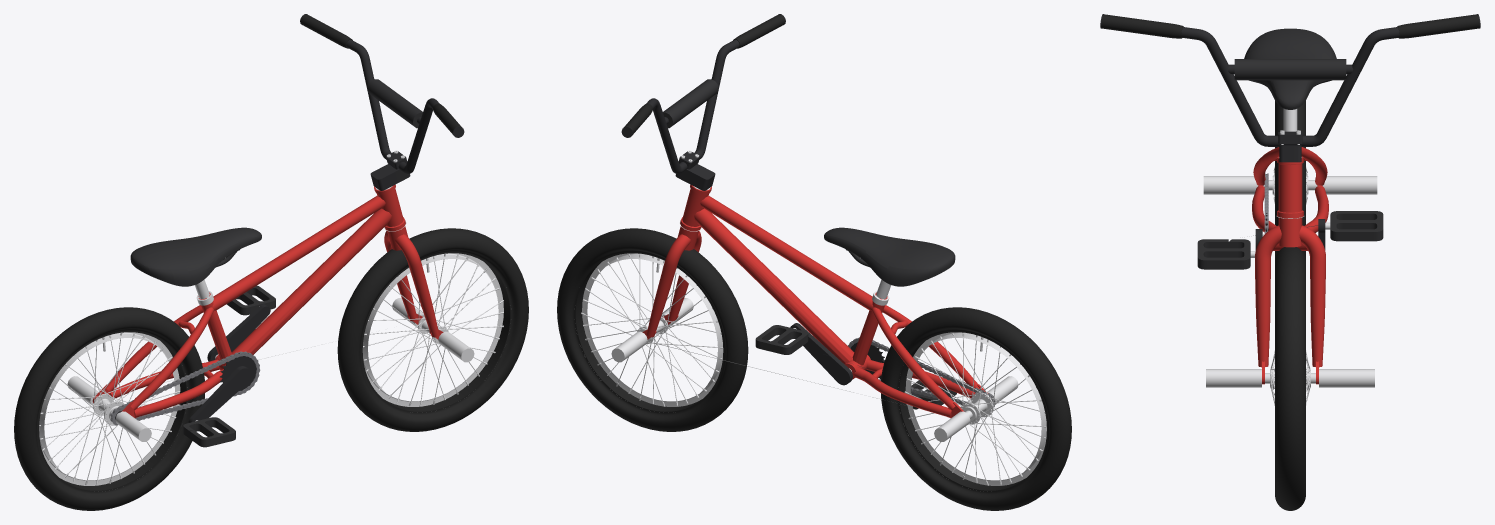
File: bmx.glb
3 views of the same model, side by side, from view 1: azimuth 30°, elevation 25°; view 2: azimuth 150°, elevation 25°; view 3: azimuth 270°, elevation 25° (orthographic). The views are drawn at different scales.
Parts seen in each view (by area): view 1: frame, wheel_front, wheel_rear, steer, crank; view 2: frame, wheel_front, wheel_rear, steer, crank; view 3: steer, frame, wheel_front, crank, wheel_rear.
Boxes of the visible parts, x1,y1,x2,y2 form: frame: (67, 184, 405, 441); wheel_front: (337, 228, 528, 431); wheel_rear: (14, 307, 204, 510); steer: (300, 14, 474, 362); crank: (183, 285, 275, 447); frame: (680, 184, 1018, 441); wheel_front: (557, 228, 748, 431); wheel_rear: (881, 307, 1071, 510); steer: (611, 14, 881, 399); crank: (755, 323, 956, 409); steer: (1100, 14, 1480, 387); frame: (1203, 28, 1377, 250); wheel_front: (1270, 247, 1310, 510); crank: (1197, 211, 1383, 269); wheel_rear: (1266, 100, 1308, 259).
Bounding box in the file's own units: 1.42 × 0.9833 × 0.7477.
